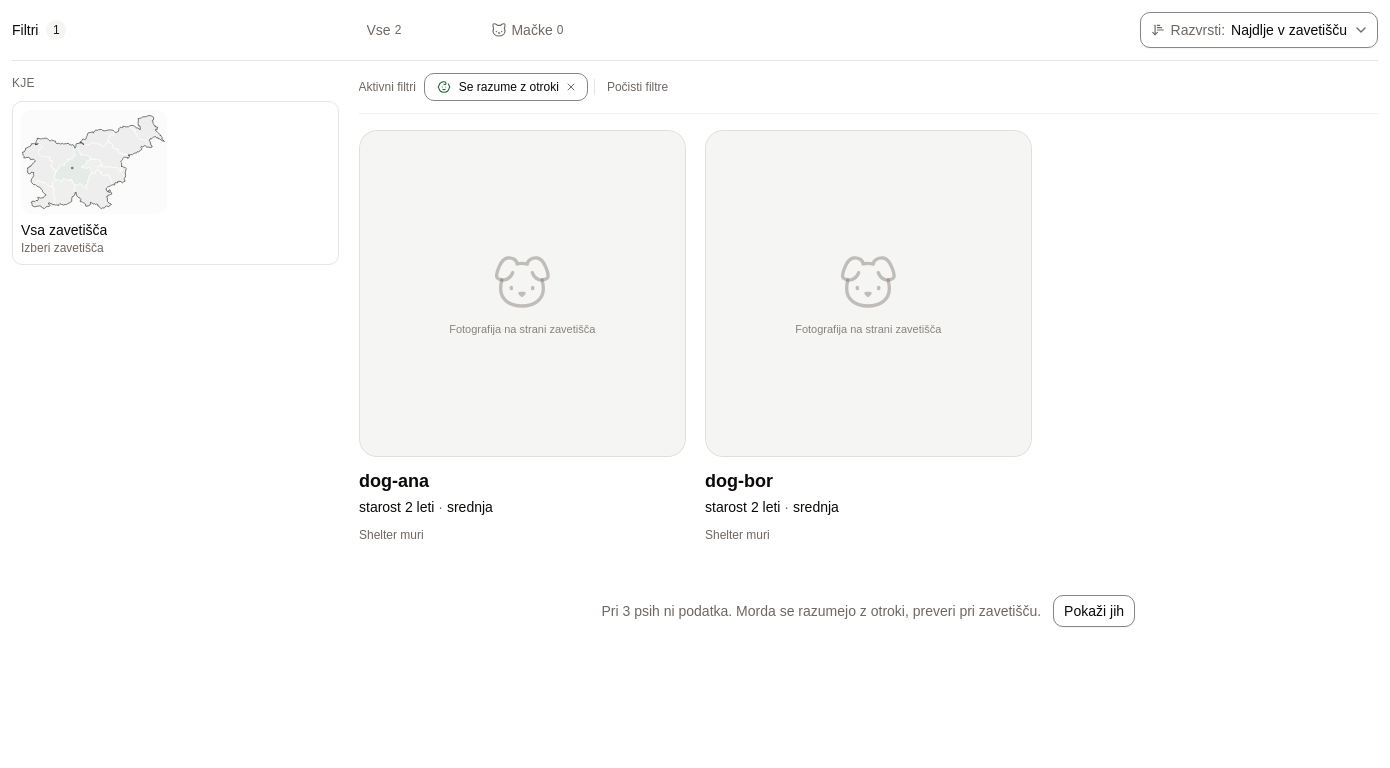
Scenario: the band once it is shown › stays shown across a filter change that leaves a band, and not after a clear
Click the button "Pokaži jih" at (1094, 610), box [1053,594,1135,626]
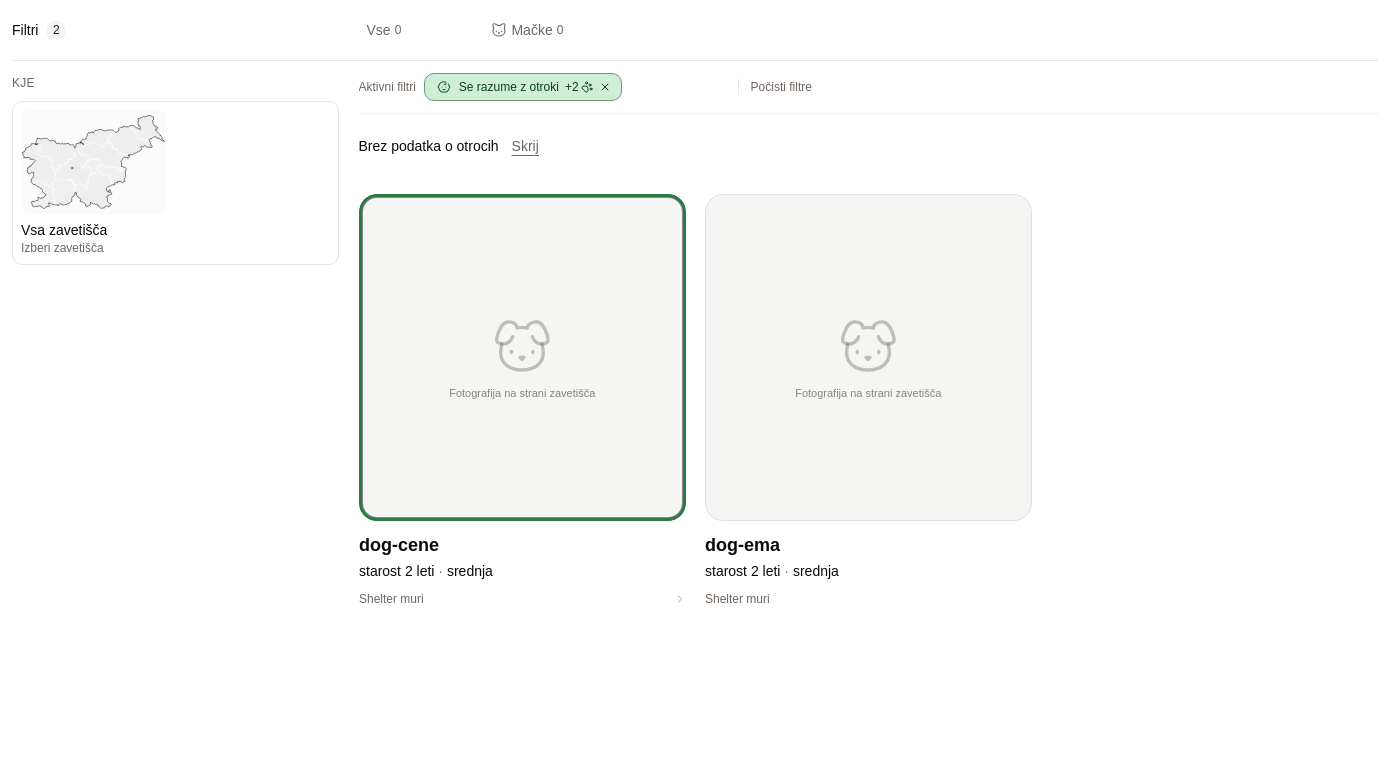
Check: the heading "Brez podatka o otrocih" is shown, box [358,136,499,156]
Click the button "Počisti filtre" at (781, 87), box [745,73,818,101]
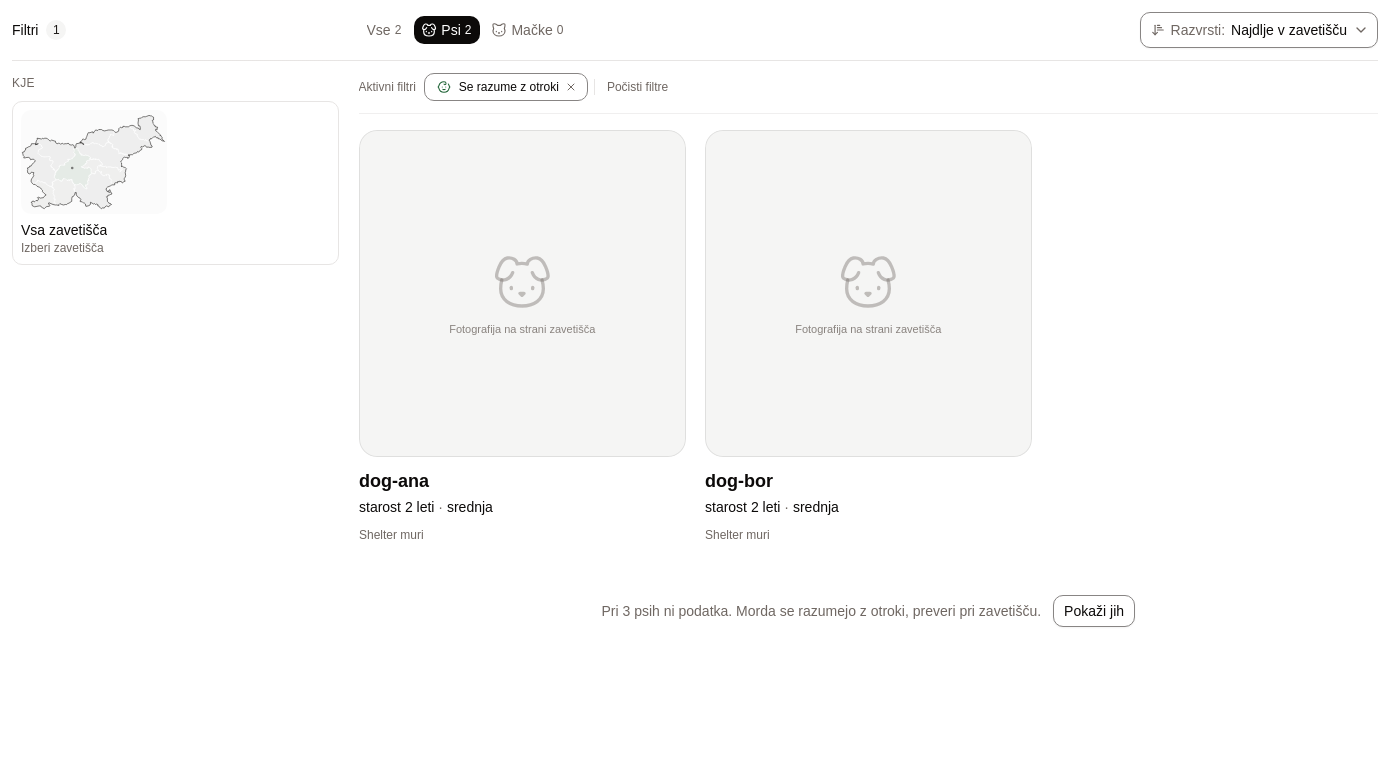
Check: the heading "Brez " is gone
Check: the button "Pokaži jih" is shown, box [1053,594,1135,626]
